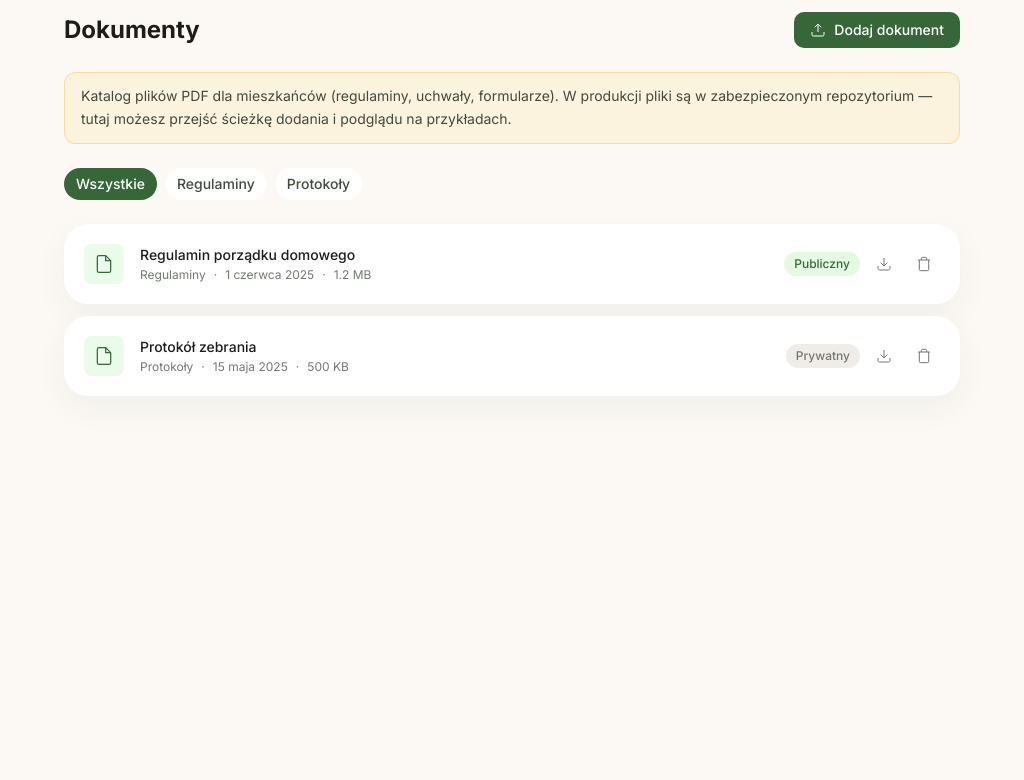
Test: AdminDocumentsPage › otwiera formularz uploadu po kliknięciu Dodaj dokument
This screenshot has width=1024, height=780.
Expected: the heading "Regulamin porządku domowego" is shown, [140,244,371,264]
Click the button "Dodaj dokument": point(877, 30) [794,12,960,48]
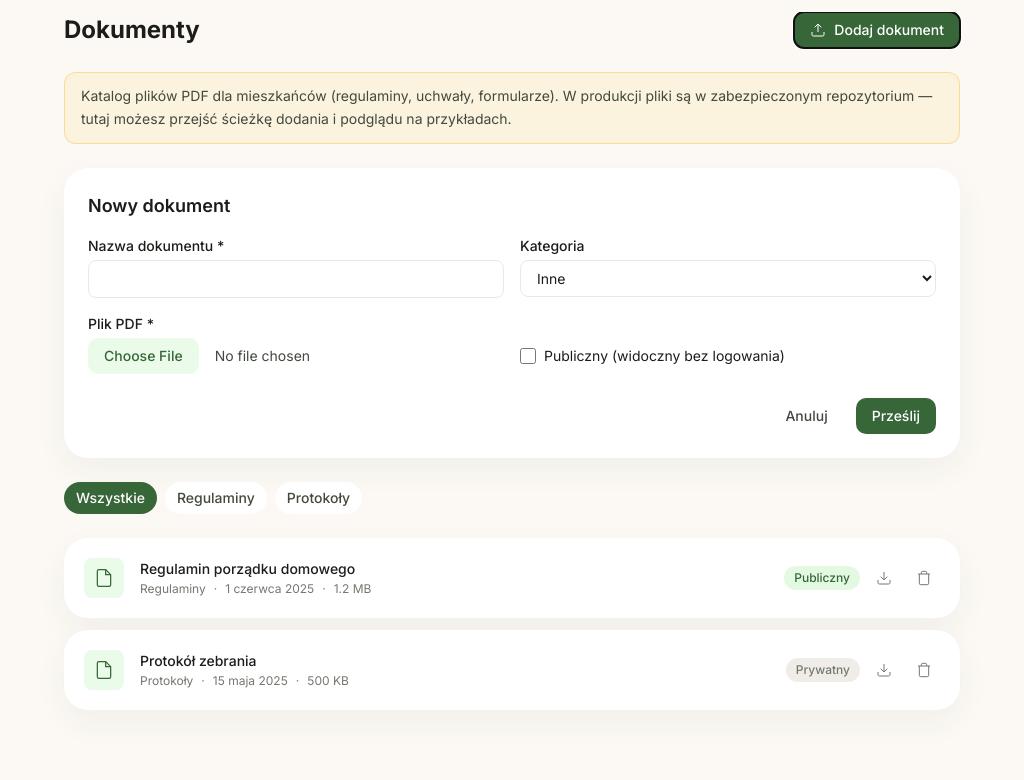
Expected: the heading "Nowy dokument" is shown, [88,194,230,216]
Expected: the text "Nazwa dokumentu *" is shown, [88,236,224,254]
Expected: the text "Plik PDF *" is shown, [88,314,154,332]
